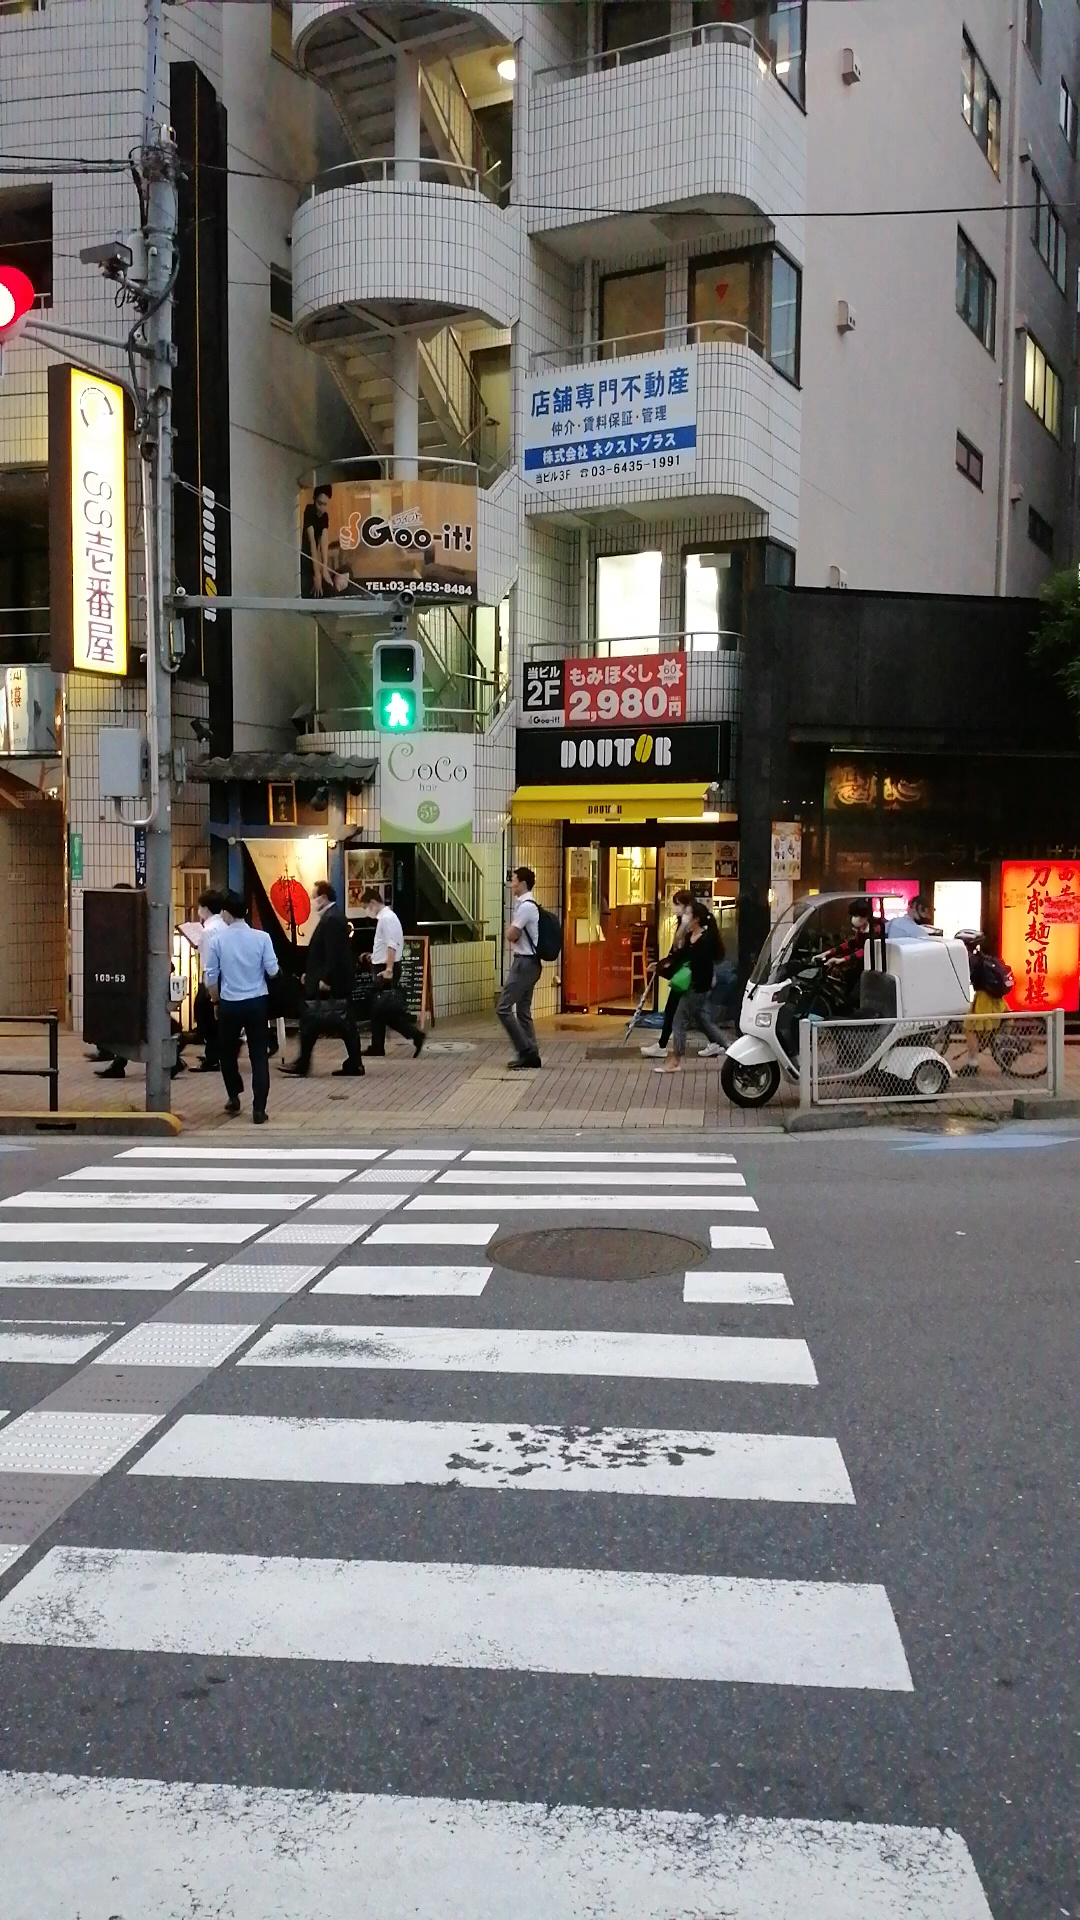green: (372, 640, 422, 733)
